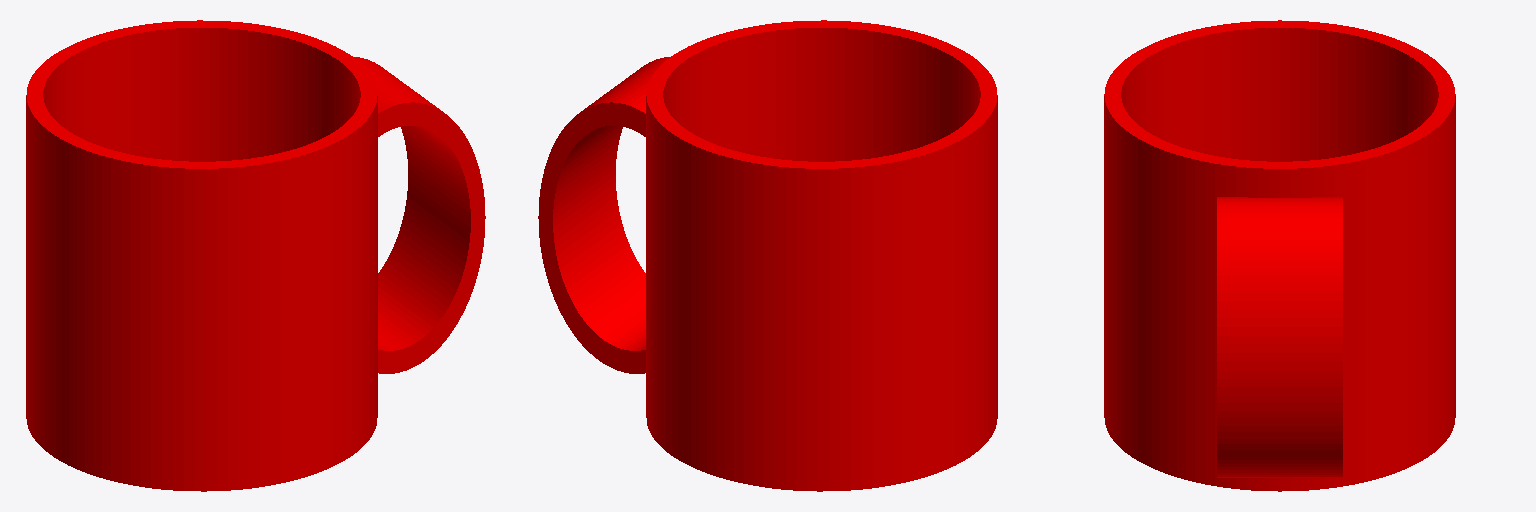
The robot description file, URDF, robot "mug.urdf":
<?xml version="1.0" ?>
<robot name="mug.urdf">
  <link name="baseLink">
    <inertial>
      <origin rpy="0 0 0" xyz="0 0 0"/>
       <mass value=".1"/>
       <inertia ixx="1" ixy="0" ixz="0" iyy="1" iyz="0" izz="1"/>
    </inertial>
    <contact>
      <lateral_friction value="1.0"/>
      <inertia_scaling value="3.0"/>
    </contact>
    <visual>
      <origin rpy="0 0 0" xyz="0 0 0"/>
      <geometry>
        <mesh filename="12.stl" scale="1 1 1" />
      </geometry>
      <material name="red">
        <color rgba="1 0 0 1"/>
      </material>
    </visual>
    <collision>
      <origin rpy="0 0 0" xyz="0 0 0"/>
      <geometry>
        <mesh filename="12_convex.obj" scale="1 1 1" />
      </geometry>
    </collision>
  </link>
</robot>

--- Facts derived from the render (not from the file) ---
3 views of the same robot in one strip: view 1: azimuth 30°, elevation 25°; view 2: azimuth 150°, elevation 25°; view 3: azimuth 270°, elevation 25° (orthographic).
Model mug.urdf with 1 links and 0 joints (none), rooted at baseLink, posed all joints at 0.
Visible links, largest first — view 1: baseLink; view 2: baseLink; view 3: baseLink.
Boxes of the visible links, x1,y1,x2,y2 form: baseLink: (26, 20, 485, 491); baseLink: (538, 20, 997, 491); baseLink: (1104, 20, 1455, 491).
Bounding box of the posed robot: 0.1385 × 0.1042 × 0.1057 m (x, y, z).
Meshes: 1 distinct files referenced, 1 mesh visuals loaded (1 binary STL).